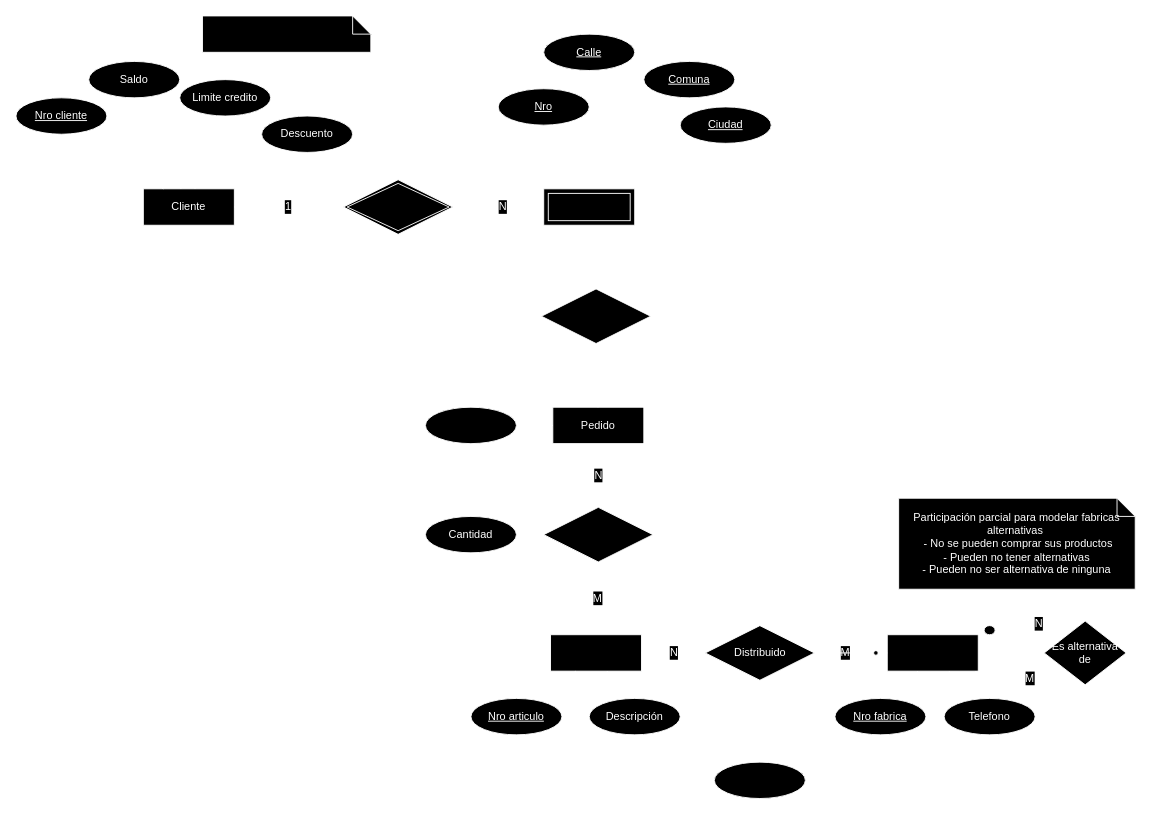
Image size: 1151x814. Some labels were removed from this diagram. The shapes that lost their labels are listed below. From the top down, each one's box as (x1, y1, x2, y2) in pixels, then its label:
(202, 15, 371, 52): credito <= $3M
(343, 179, 453, 234): Tiene
(543, 188, 635, 225): Dirección
(541, 288, 651, 344): Esta en
(425, 406, 516, 444): Fecha de pedido
(543, 506, 653, 562): Formado por
(550, 634, 642, 671): Articulo
(886, 634, 978, 671): Fabrica
(713, 761, 805, 799): Cant existencias
